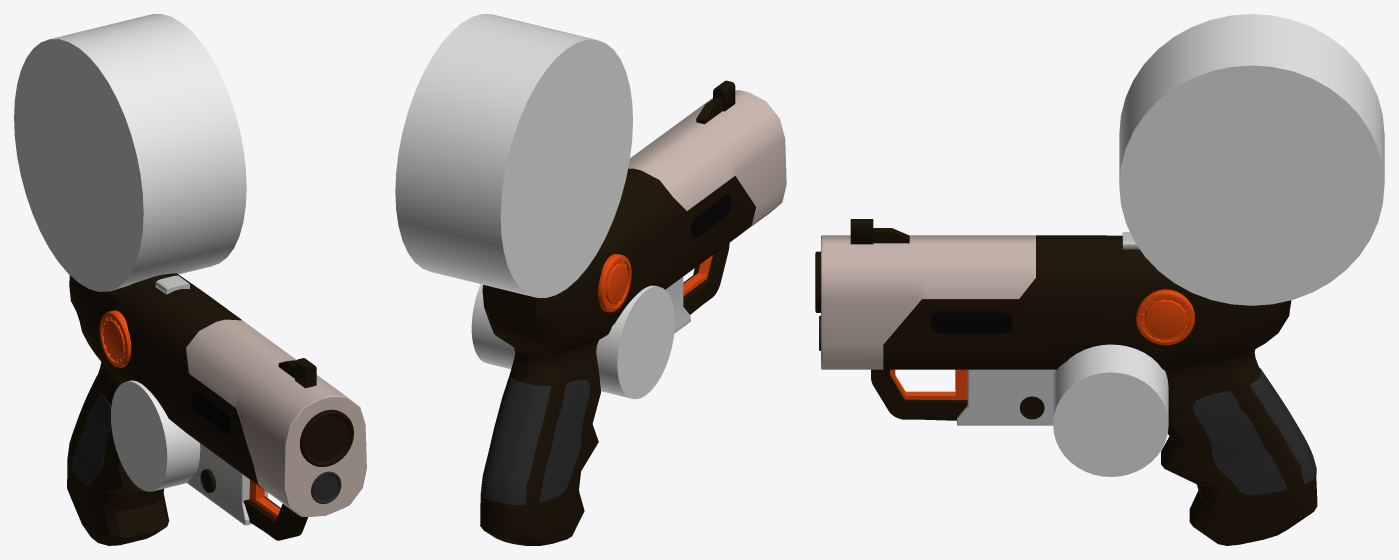
File: blaster.glb
3 views of the same model, side by side, from view 1: azimuth 30°, elevation 25°; view 2: azimuth 150°, elevation 25°; view 3: azimuth 270°, elevation 25° (orthographic). The views are drawn at different scales.
Visible parts, largest first — view 1: Blaster; view 2: Blaster; view 3: Blaster.
Boxes of the visible parts, x1,y1,x2,y2 form: Blaster: (14,14,366,545); Blaster: (395,14,786,545); Blaster: (815,14,1384,545).
Bounding box in the file's own units: 0.0975 × 0.3199 × 0.3293.
Materials: 18 (1 with a texture image).
